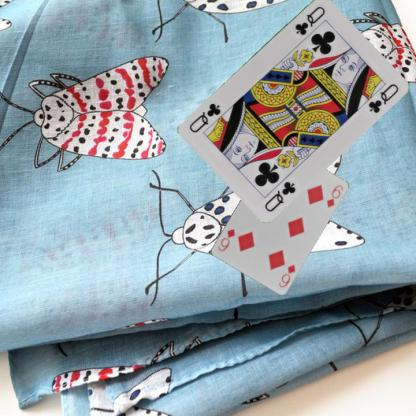6d: (276, 262, 297, 288)
Qc: (262, 178, 297, 213), (292, 3, 326, 36)
